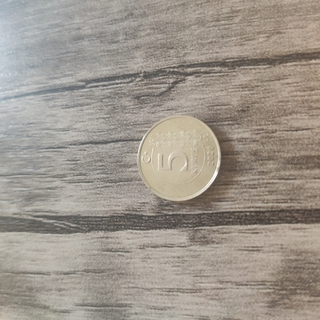5KURUS: (135, 112, 222, 203)
